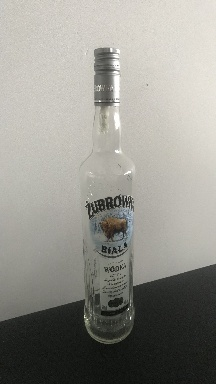butelka: (77, 43, 136, 347)
